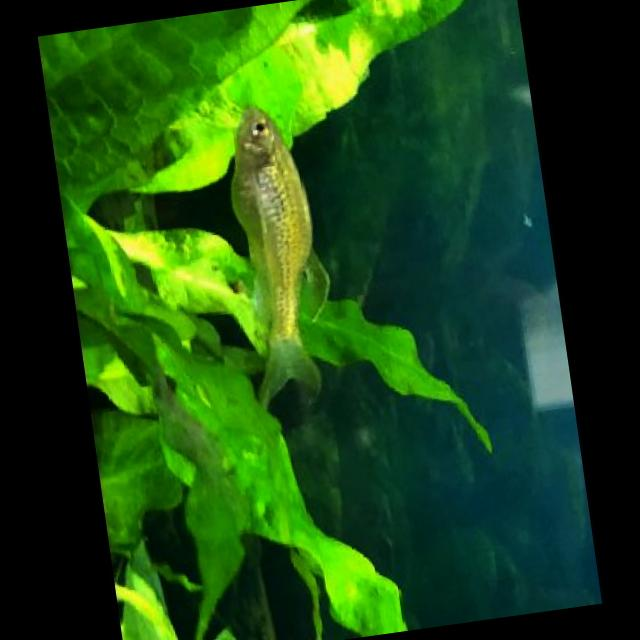ZebraFish: (212, 95, 344, 413)
